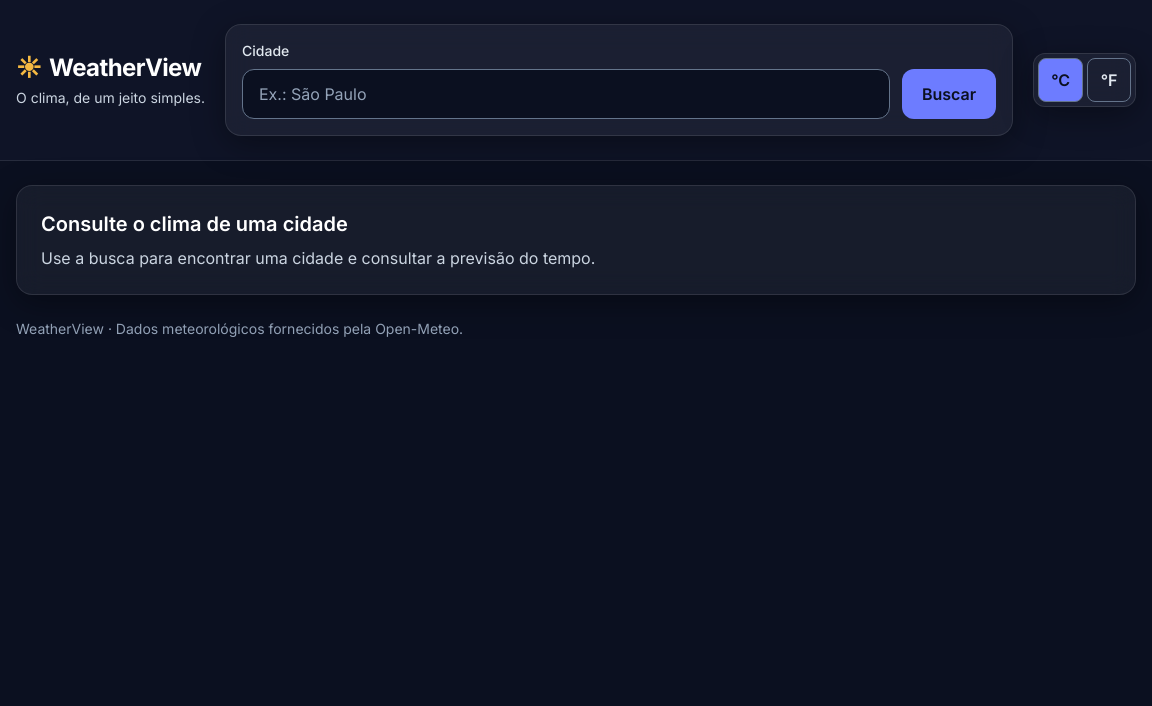
Test case: App › busca e apresenta as cidades e o clima da primeira opção
This screenshot has width=1152, height=706.
Type "São Paulo" into the search field labelled "Cidade" at [566, 94], box 242,69 -> 890,119
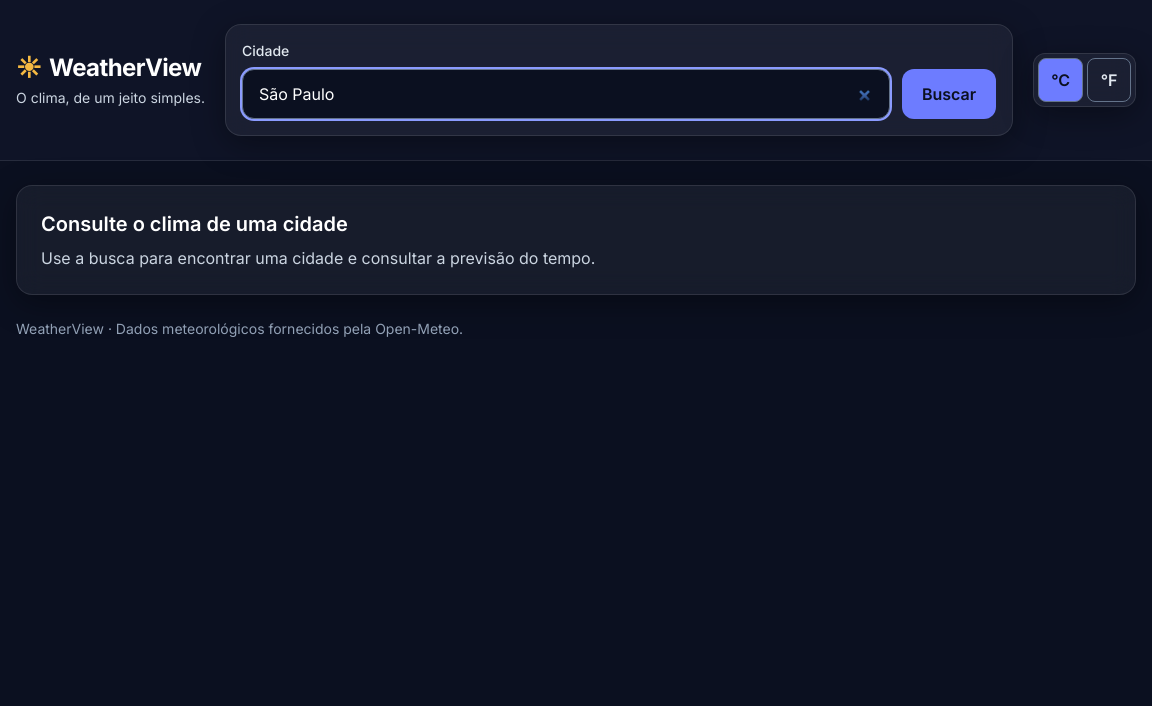
Press Enter
(page scrolled)
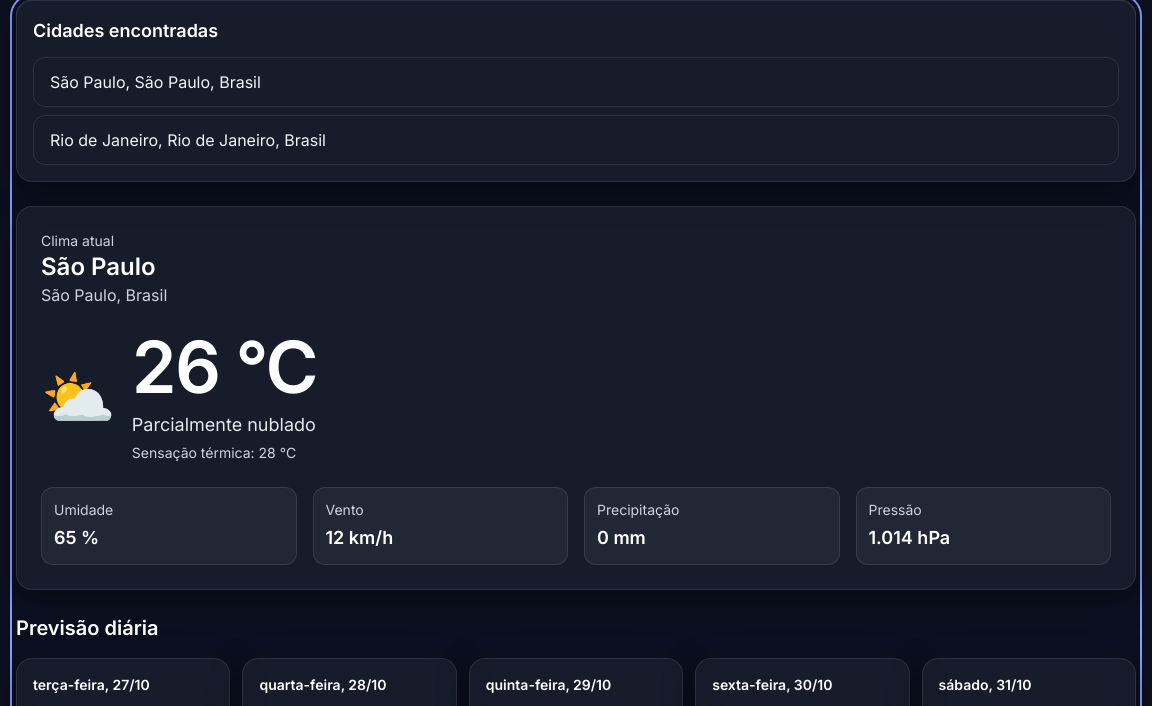
Check: the element "São Paulo" is shown, box 16,206 -> 1136,590
Check: the element "Cidades encontradas" is shown, box 16,0 -> 1136,182
Check: the button "São Paulo, São Paulo, Brasil" is shown, box 33,57 -> 1119,107
